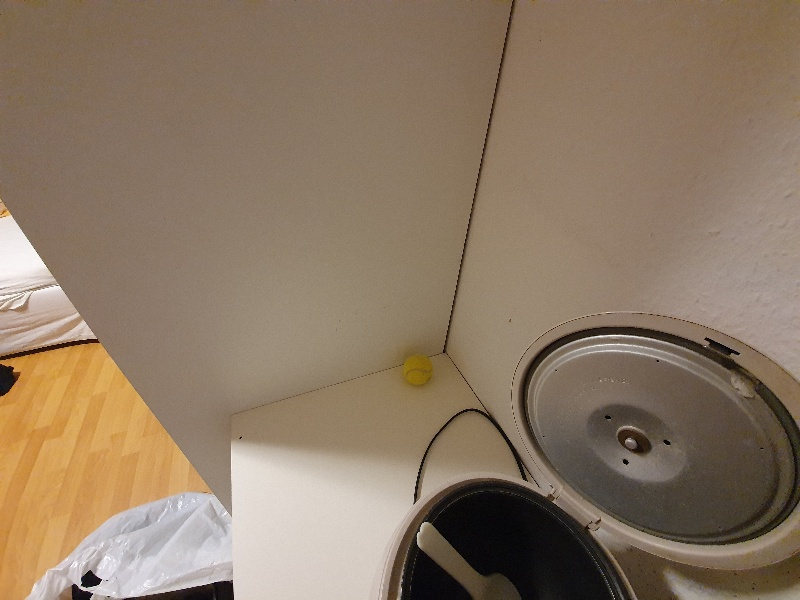Tennisball: (398, 351, 438, 390)
